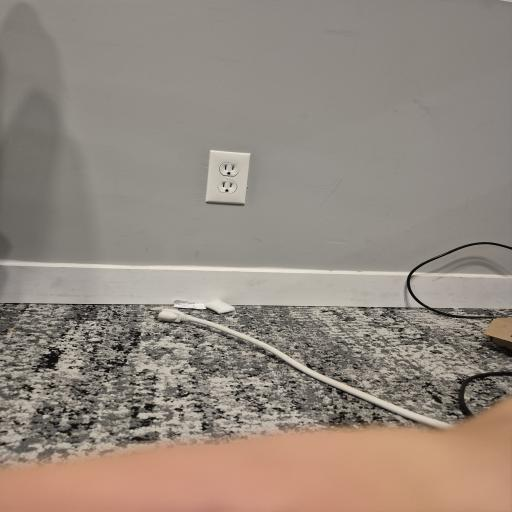outlet: (210, 149, 250, 206)
